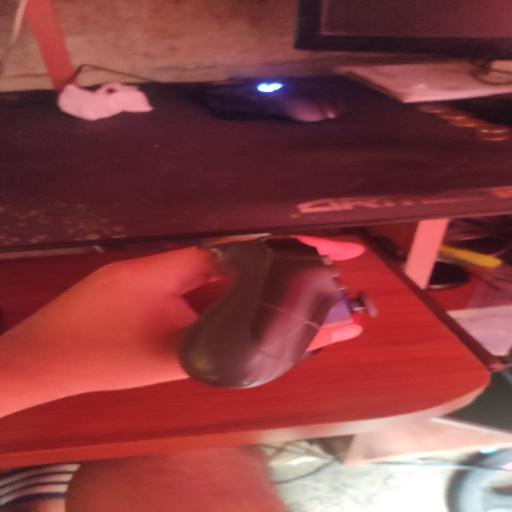ControlPlay4: (179, 236, 376, 389)
